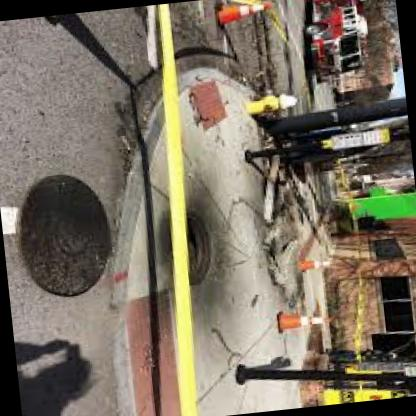manholes: (145, 195, 224, 311)
